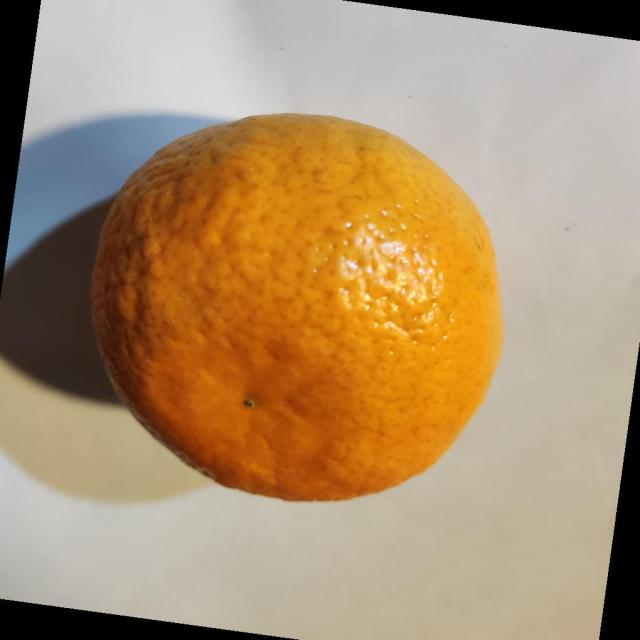fresh orange: (89, 110, 505, 502)
